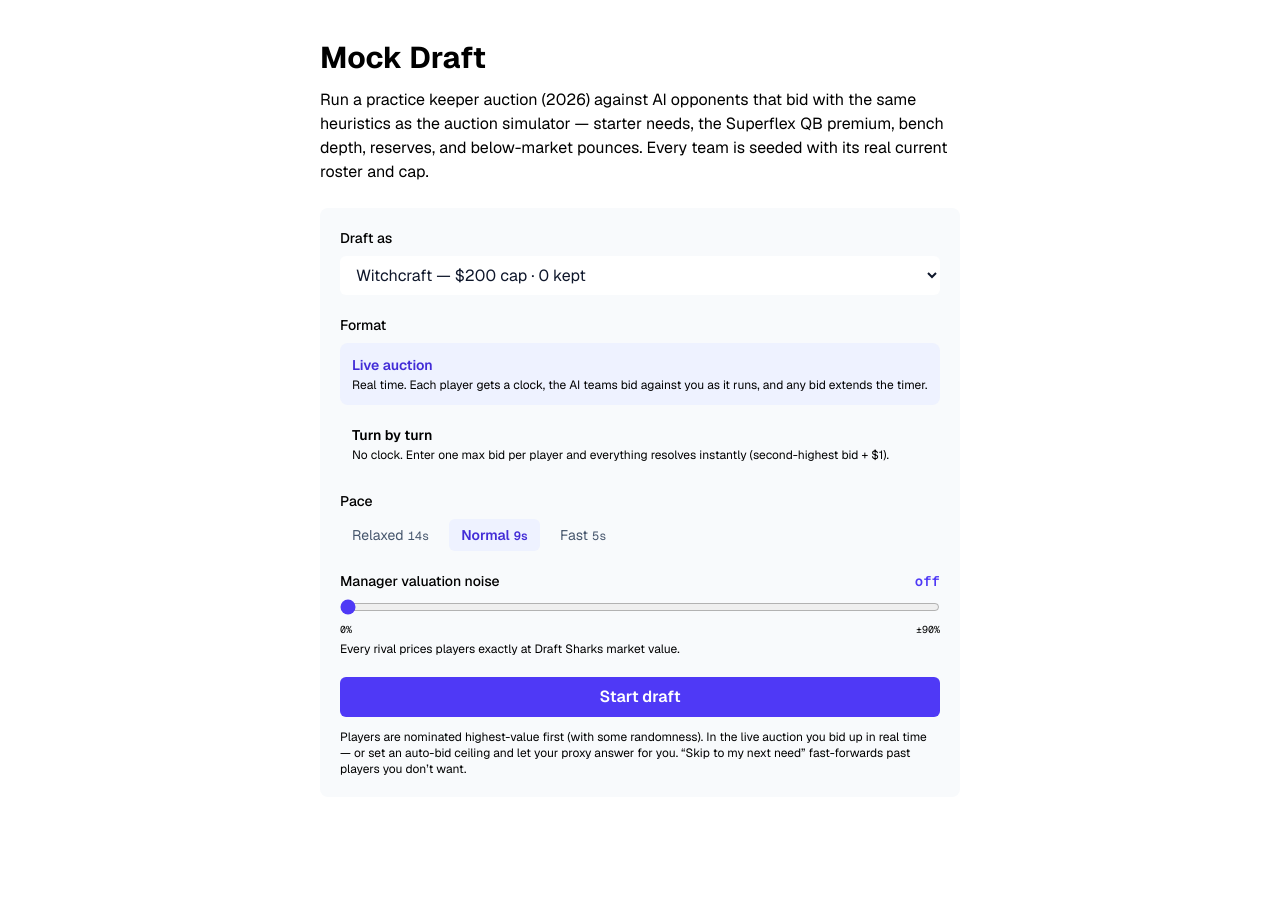
Test: MockDraftClient (live auction) › opens a lot with a running countdown
Click the button "Start draft". click: click(640, 697)
box: top-left (340, 677), bottom-right (940, 717)
Wait 1000 ms
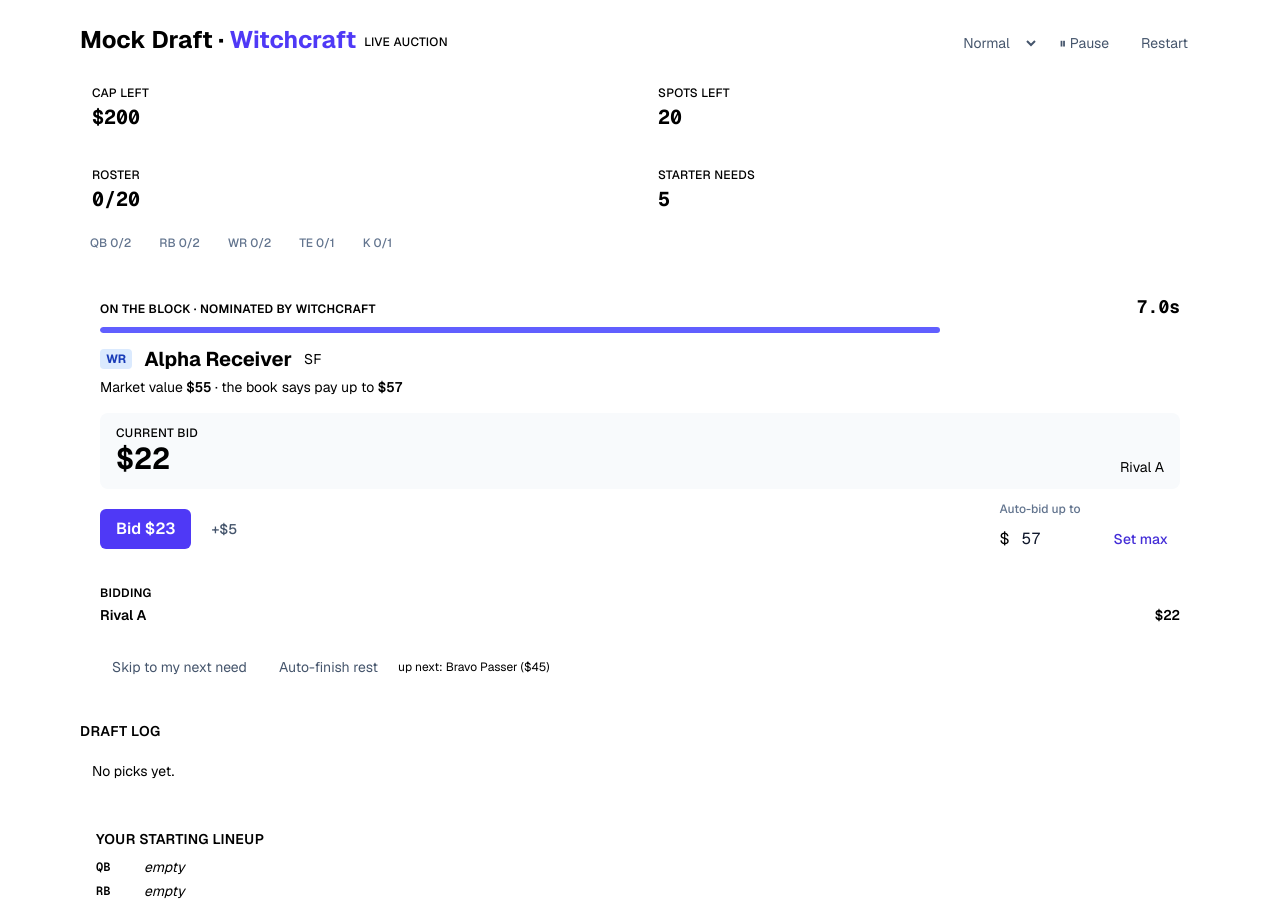
Result: the text "On the block · nominated by Witchcraft" is shown at top-left (100, 301), bottom-right (376, 317)
Result: the text "Current bid" is shown at top-left (116, 425), bottom-right (198, 441)
